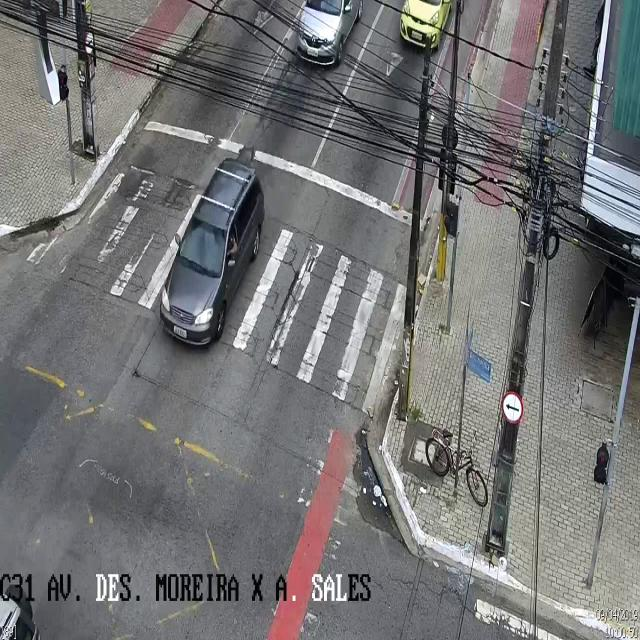Car: (161, 156, 263, 348), (296, 0, 368, 65), (397, 1, 457, 53)
